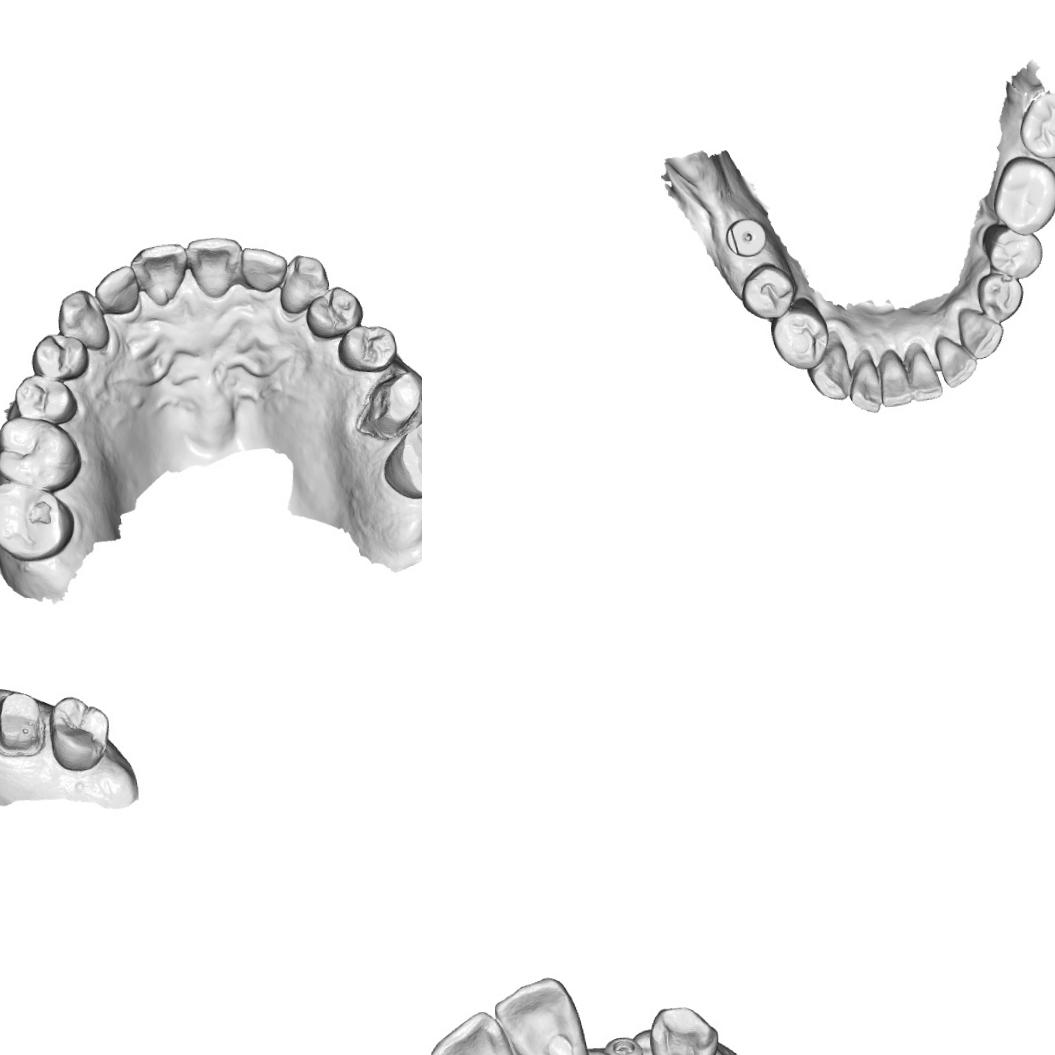canine: (644, 1002, 719, 1055), (55, 287, 110, 351), (276, 252, 330, 316), (804, 340, 852, 403), (956, 306, 1004, 362)
crown: (351, 368, 422, 441), (0, 689, 44, 755)
implant: (720, 207, 774, 260), (598, 1029, 650, 1055)
incisor: (489, 972, 589, 1055), (424, 1007, 525, 1055), (129, 241, 191, 308), (184, 233, 244, 299), (92, 262, 140, 316), (934, 334, 979, 390), (240, 244, 288, 293), (878, 352, 914, 408), (907, 347, 944, 401), (848, 356, 882, 414)
molar: (0, 413, 82, 494), (0, 478, 77, 563), (988, 153, 1055, 237), (46, 692, 112, 774), (378, 410, 422, 501), (1015, 91, 1055, 160)
premolar: (767, 300, 831, 372), (736, 260, 800, 323), (980, 220, 1044, 281), (13, 370, 78, 426), (302, 284, 364, 340), (334, 321, 398, 374), (29, 330, 90, 382), (972, 271, 1026, 324)
